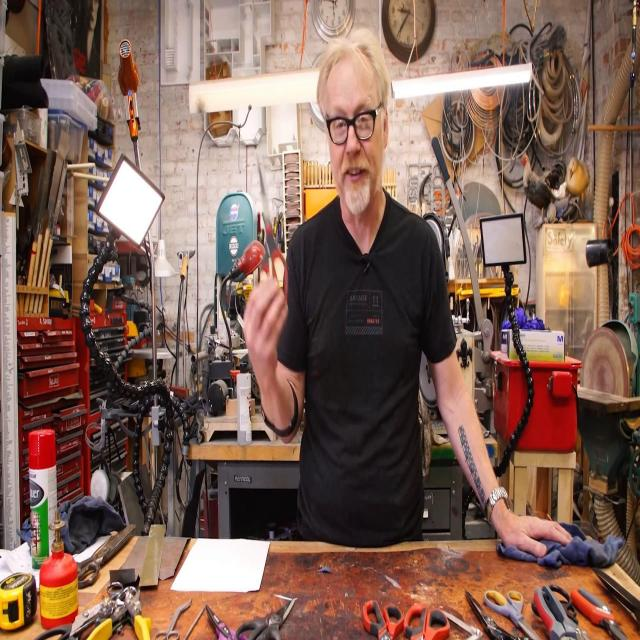scissor: (255, 156, 288, 306), (78, 524, 136, 588), (570, 587, 626, 640), (484, 591, 539, 640), (235, 597, 296, 640), (466, 590, 518, 640), (35, 603, 103, 640), (594, 568, 640, 618), (363, 600, 404, 640), (405, 605, 450, 640), (205, 604, 246, 640)
